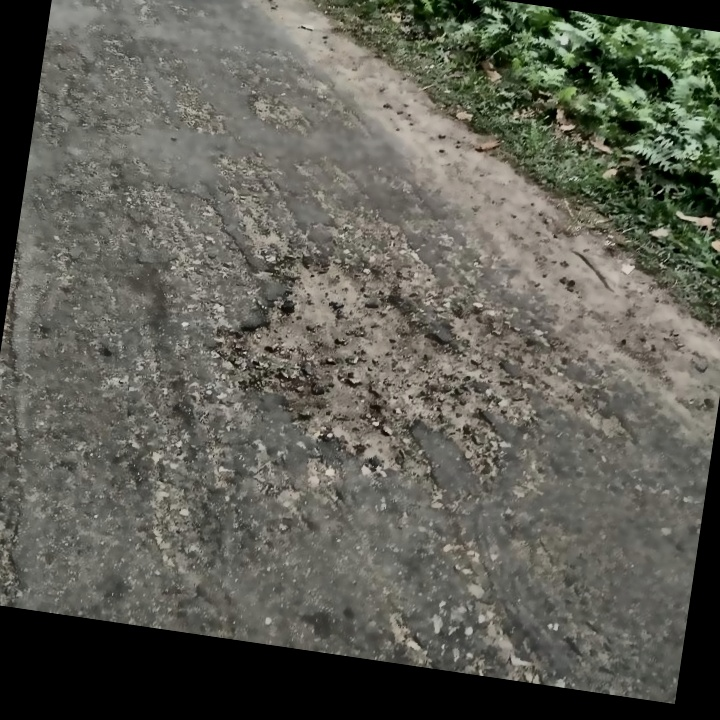pothole: (213, 240, 491, 471)
